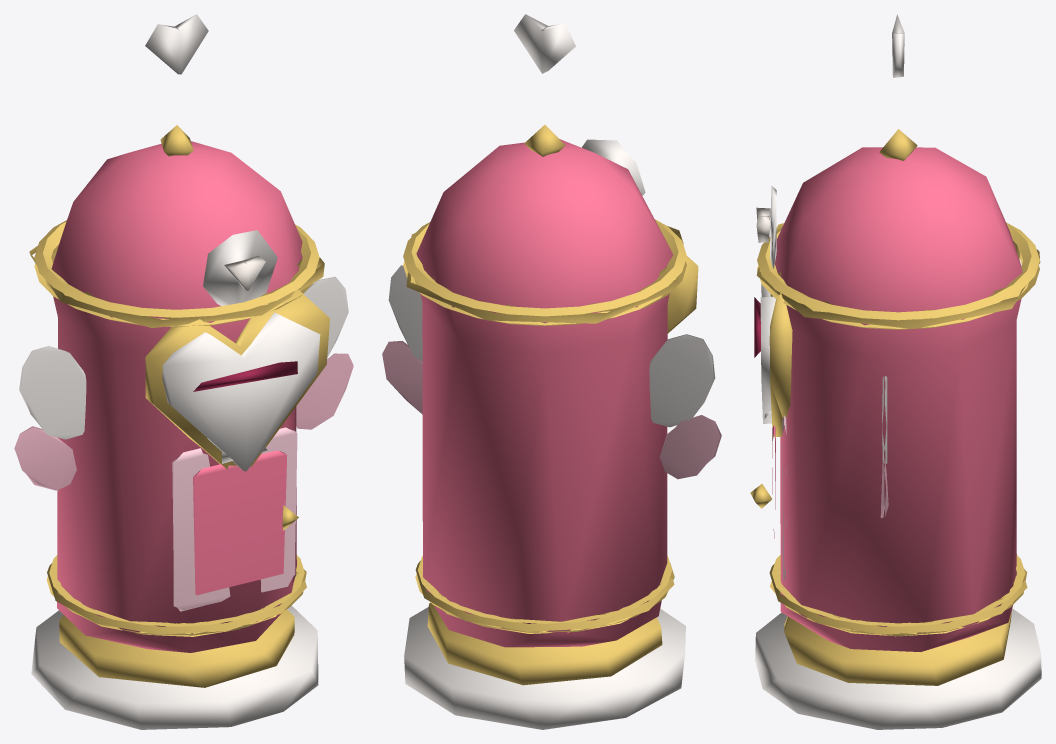
The model's file is lod_mailbox_heart.glb.
The picture shows the model from 3 angles, left to right: view 1: azimuth 30°, elevation 25°; view 2: azimuth 150°, elevation 25°; view 3: azimuth 270°, elevation 25°; orthographic projection.
Visible parts, largest first — view 1: mailbox_heart; view 2: mailbox_heart; view 3: mailbox_heart.
Boxes of the visible parts, left/top/right/bottom form: mailbox_heart: left=14, top=14, right=353, bottom=729; mailbox_heart: left=382, top=14, right=721, bottom=729; mailbox_heart: left=750, top=14, right=1041, bottom=729.
Size of the model in its own units: 1.13 by 2.07 by 0.8428.
